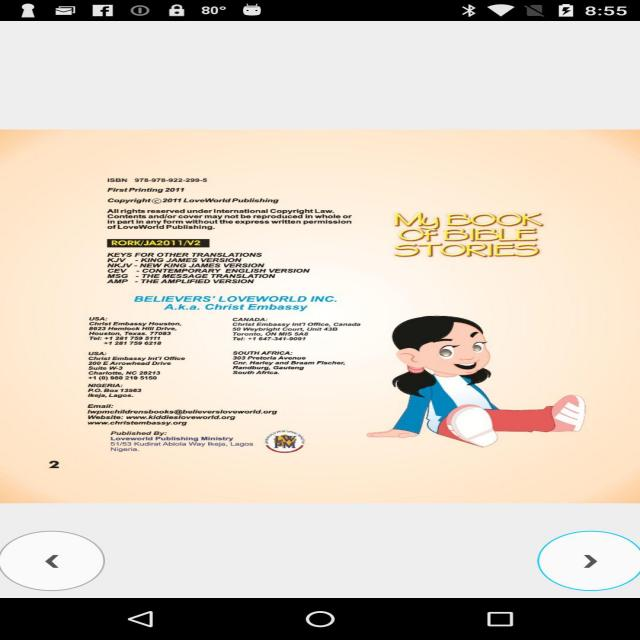button: (0, 528, 121, 594), (535, 530, 640, 592)
icon: (43, 554, 64, 572), (582, 554, 604, 570)
image: (1, 171, 640, 491), (363, 312, 591, 448), (382, 208, 548, 262), (264, 430, 306, 454)
text: (100, 176, 358, 289), (86, 403, 280, 427), (229, 314, 361, 344), (107, 430, 255, 454), (130, 296, 343, 312), (84, 315, 187, 348), (229, 348, 350, 376), (86, 351, 190, 382), (86, 383, 148, 400), (47, 457, 63, 470)
